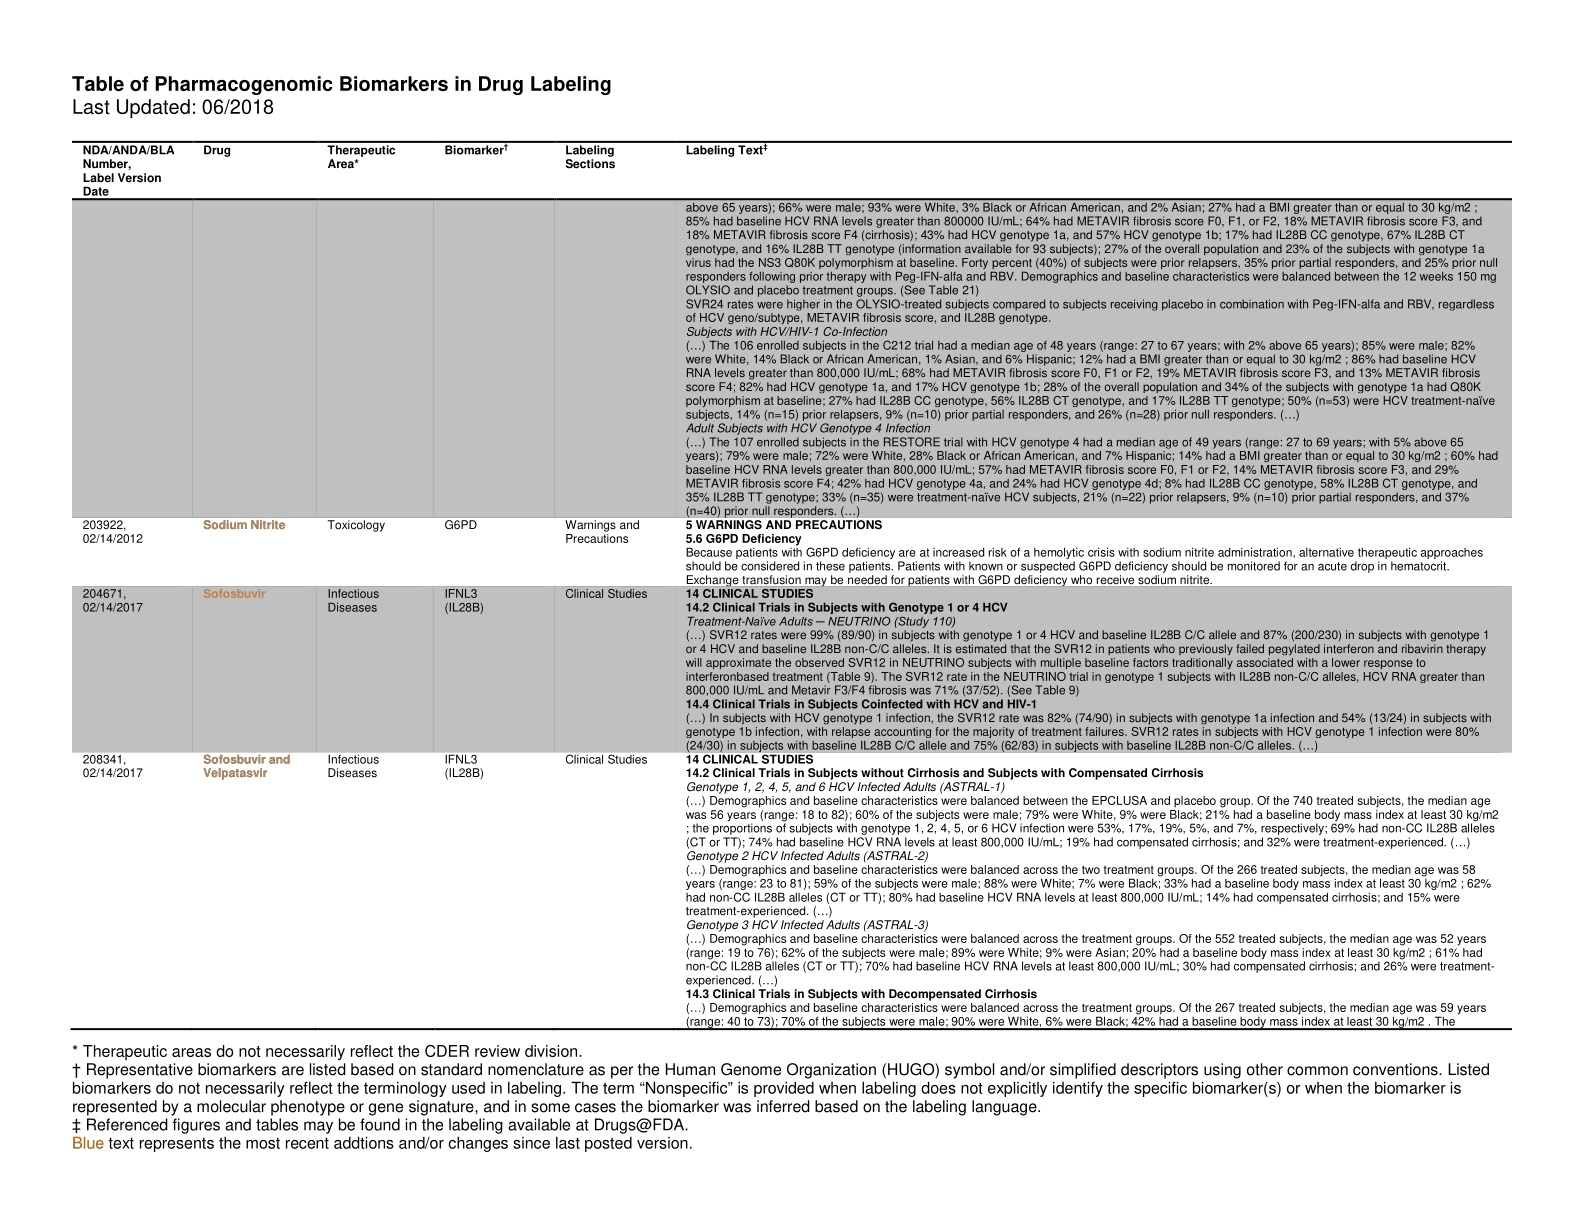partial_lined: (73, 139, 1513, 1031)
